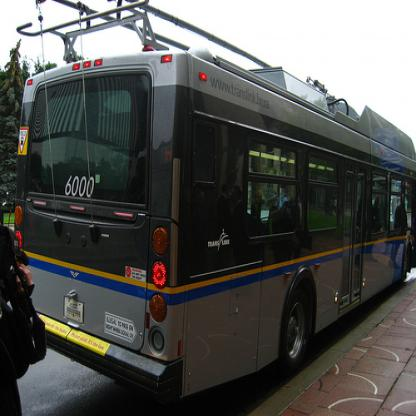bus: (11, 0, 413, 402)
